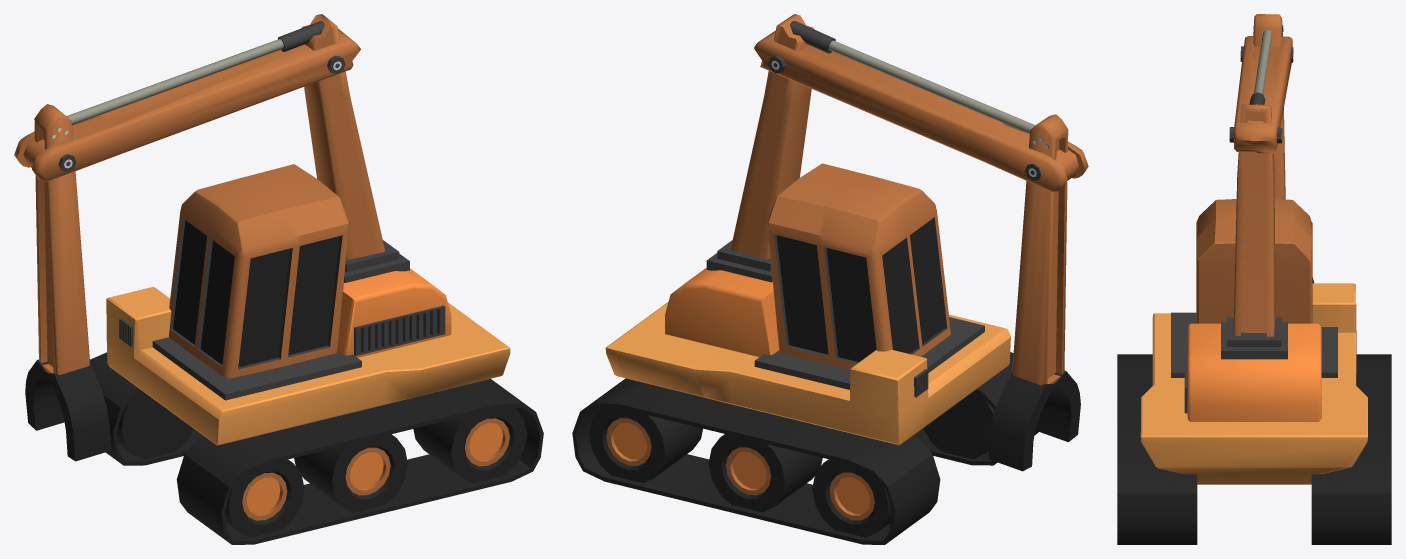
The model's file is Kutuk_toplayc_alet.fbx.
3 renders of one model, left to right at view 1: azimuth 30°, elevation 25°; view 2: azimuth 150°, elevation 25°; view 3: azimuth 270°, elevation 25°, orthographic. The views are drawn at different scales.
Visible parts, largest first — view 1: Cube.022, Cube.025, Cube.026; view 2: Cube.022, Cube.025, Cube.026; view 3: Cube.022, Cube.025, Cube.026.
Part boxes in pixels (bbox=[...]): Cube.022: bbox=[90, 164, 543, 544]; Cube.025: bbox=[14, 14, 384, 259]; Cube.026: bbox=[25, 104, 111, 461]; Cube.022: bbox=[572, 163, 1038, 544]; Cube.025: bbox=[730, 14, 1088, 259]; Cube.026: bbox=[988, 114, 1080, 471]; Cube.022: bbox=[1117, 199, 1391, 544]; Cube.025: bbox=[1229, 25, 1293, 336]; Cube.026: bbox=[1253, 14, 1313, 283].
Bounding box in the file's own units: 10.37 × 9.81 × 6.3.
